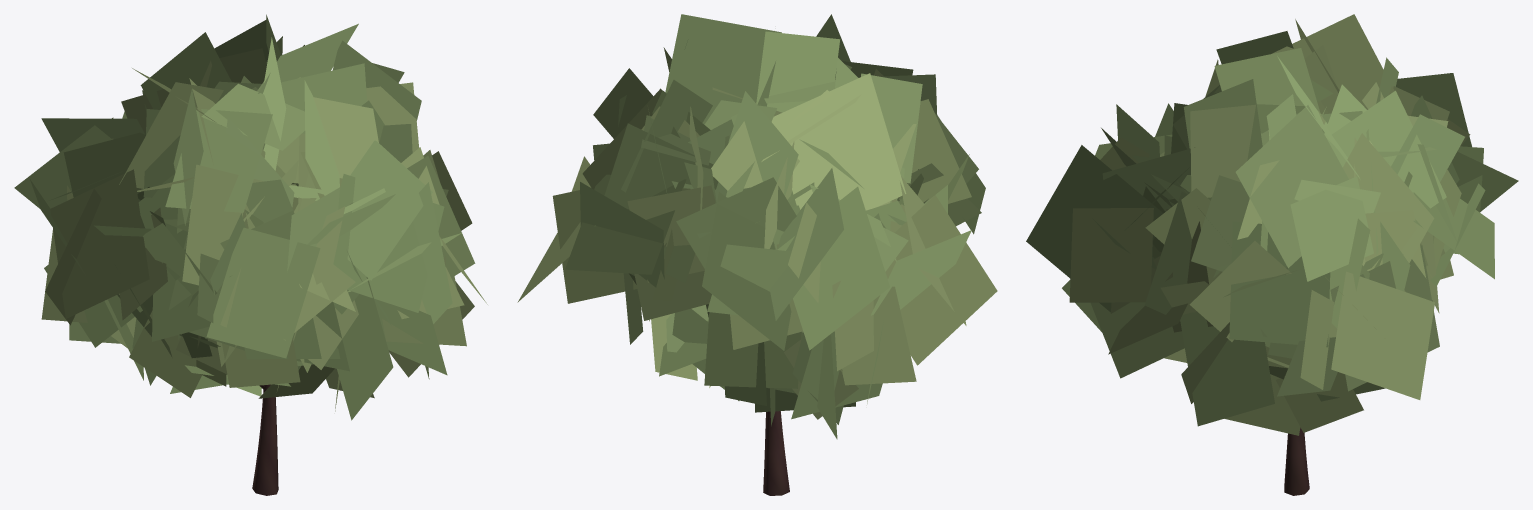
File: cherry_lod1.glb
3 views of the same model, side by side, from view 1: azimuth 30°, elevation 25°; view 2: azimuth 150°, elevation 25°; view 3: azimuth 270°, elevation 25° (orthographic). The views are drawn at different scales.
Parts seen in each view (by area): view 1: cherry_lod1; view 2: cherry_lod1; view 3: cherry_lod1.
Boxes of the visible parts, <box> form: cherry_lod1: <box>14,14,487,495</box>; cherry_lod1: <box>517,14,997,495</box>; cherry_lod1: <box>1026,14,1518,495</box>.
Size of the model in its own units: 0.9919 by 1 by 1.
